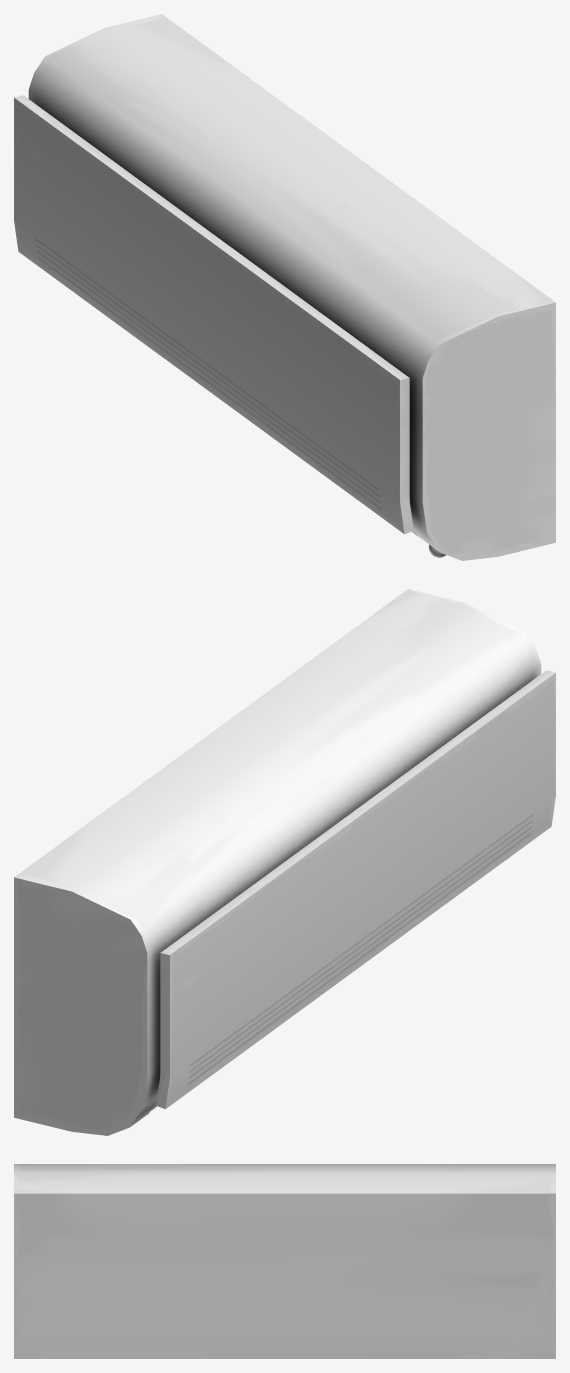
File: Airco.FBX
The picture shows the model from 3 angles, top to bottom: view 1: azimuth 30°, elevation 25°; view 2: azimuth 150°, elevation 25°; view 3: azimuth 270°, elevation 25°; orthographic projection. The views are drawn at different scales.
Visible parts, largest first — view 1: aircoBody; view 2: aircoBody; view 3: aircoBody.
Boxes of the visible parts, box(x1,y1,x2,y2) form: aircoBody: box(14, 14, 555, 560); aircoBody: box(14, 589, 555, 1135); aircoBody: box(14, 1164, 555, 1358).
Size of the model in its own units: 6.33 by 9.56 by 28.43.
Materials: 1 (1 with a texture image).
